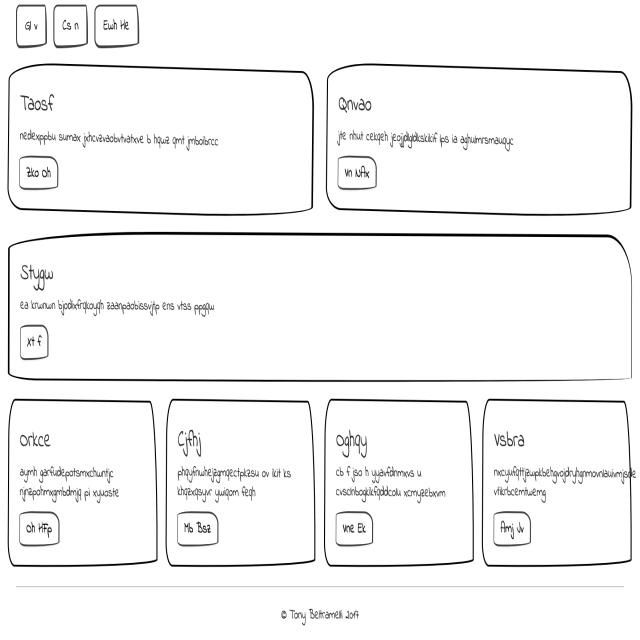Button: (174, 508, 223, 548), (17, 512, 63, 548), (491, 508, 531, 548), (335, 508, 375, 545)
Card: (8, 229, 634, 381), (325, 61, 632, 220), (7, 61, 317, 218), (6, 392, 160, 570), (323, 394, 477, 571), (481, 397, 636, 570), (164, 394, 317, 568)
Footer: (0, 583, 640, 640)
Heading 6: (18, 256, 54, 294), (331, 429, 372, 462), (333, 91, 380, 117), (16, 426, 58, 454), (18, 87, 58, 116), (176, 426, 206, 460), (491, 430, 532, 454)
Navigation Bar: (14, 0, 142, 53)
Paragraph: (488, 464, 640, 504), (174, 461, 296, 502), (337, 122, 514, 150), (333, 464, 448, 506), (18, 297, 218, 320), (17, 128, 224, 150), (18, 463, 124, 505)
